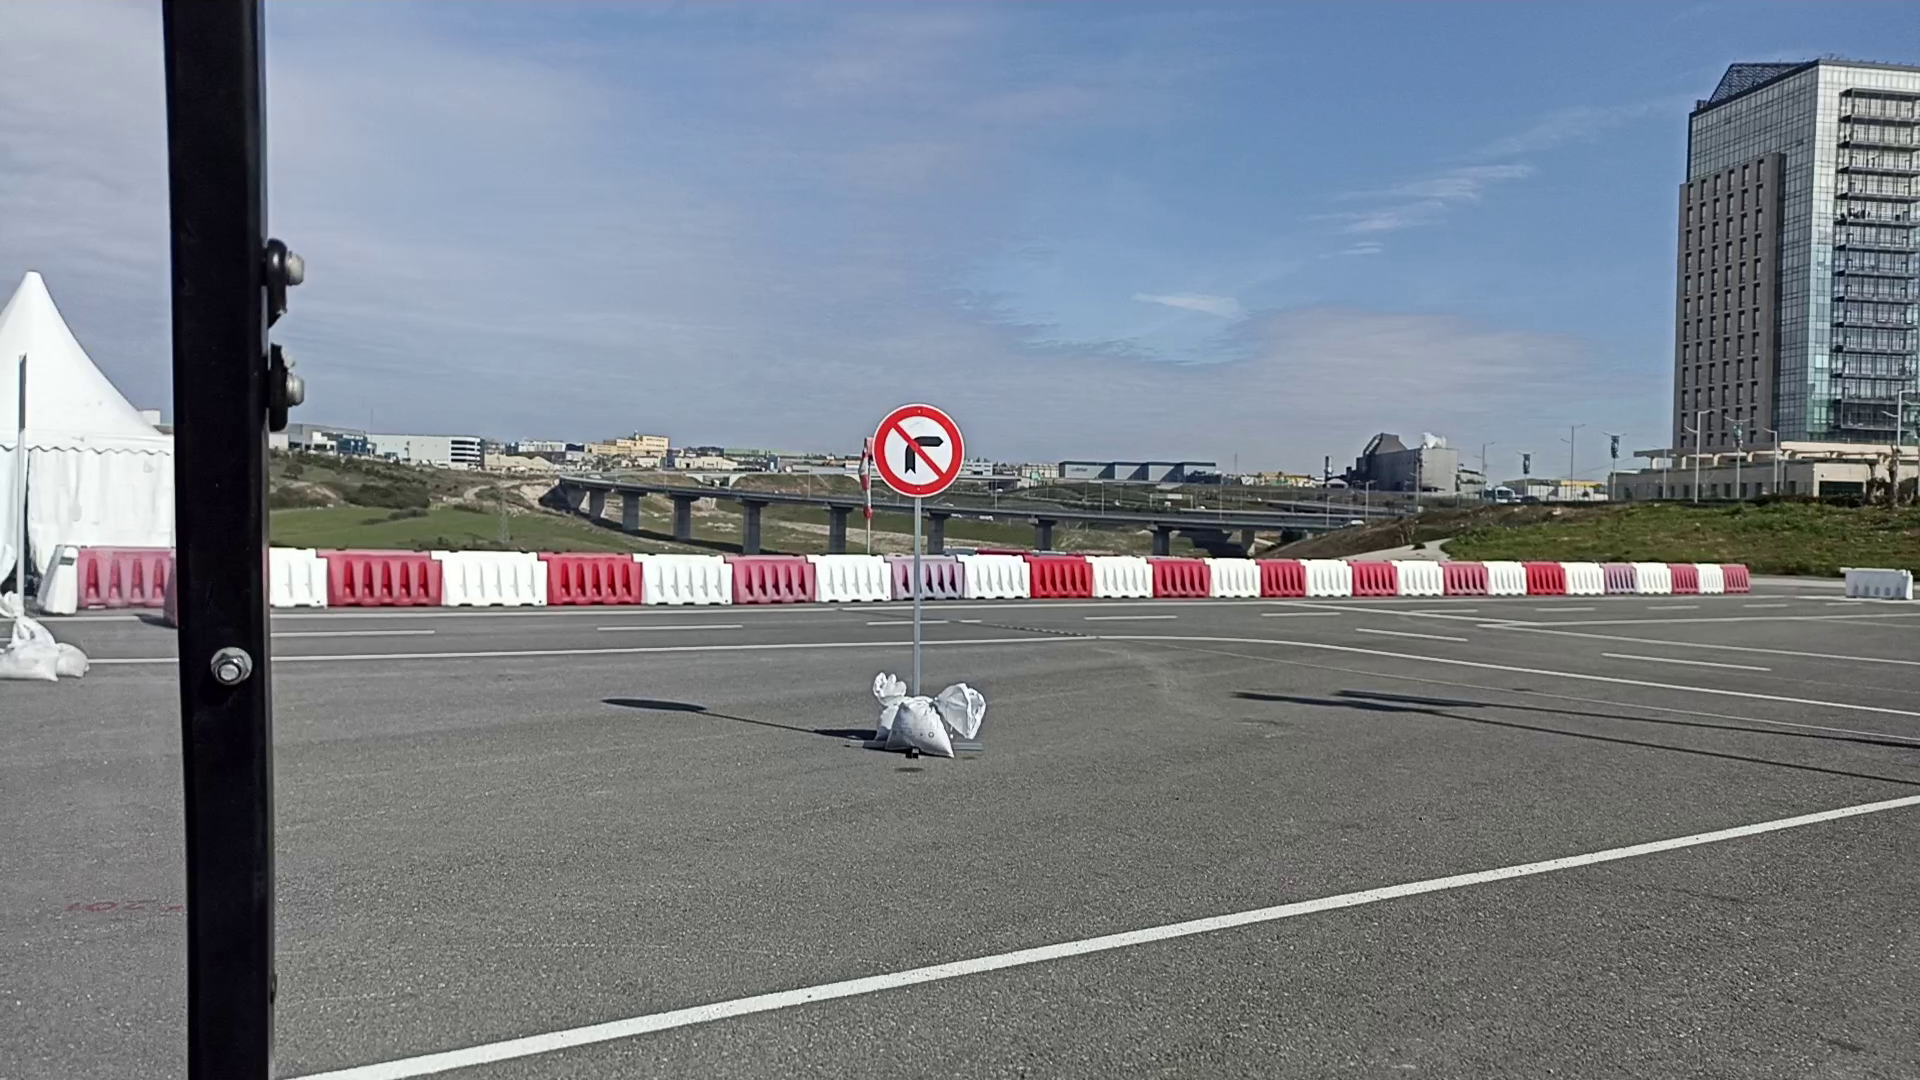noleftturn: (869, 400, 967, 500)
